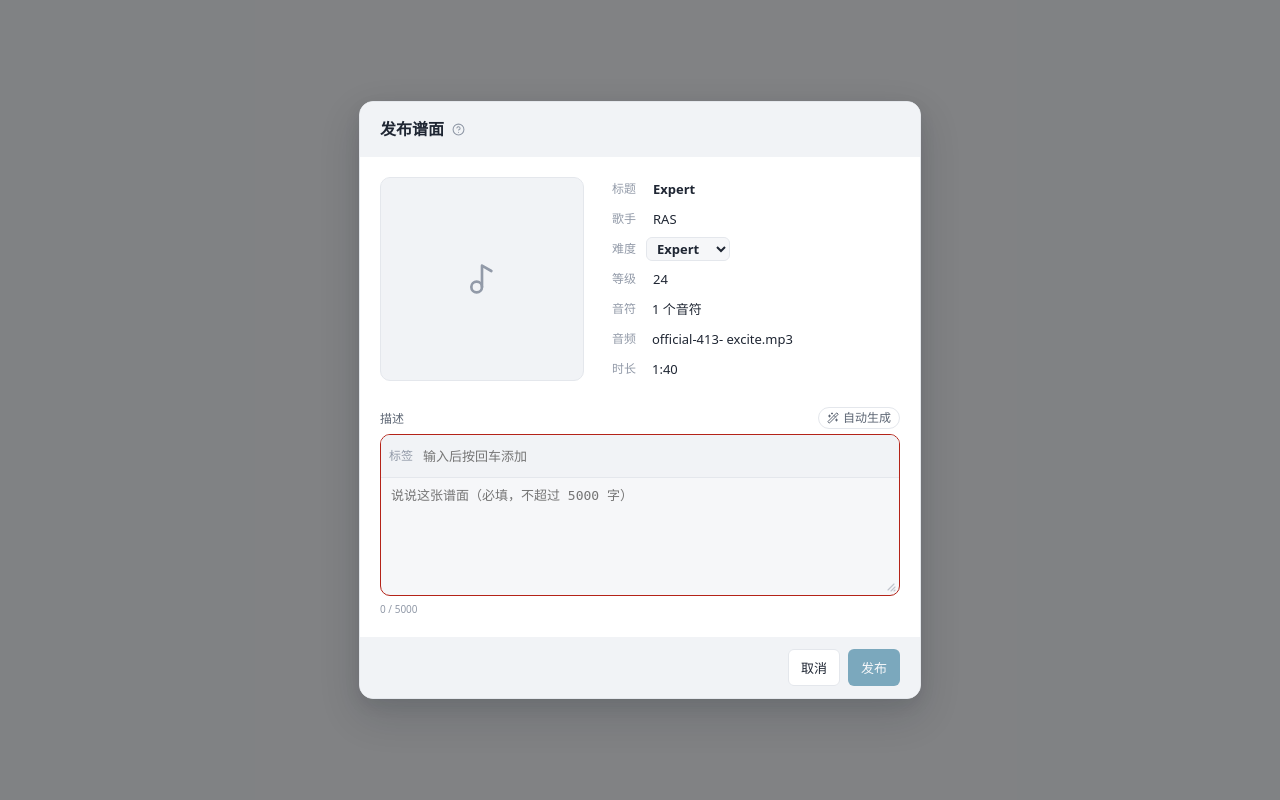
Test: 票 11 · 发布弹窗：必填预检与确认门 › 等级 0：就地缺项，发布键禁用（票 43）
The image size is (1280, 800).
Type "x" into the text box with placeholder "说说这张谱面（必填，不超过 5000 字）" at [640, 536], box [381,478,899,595]
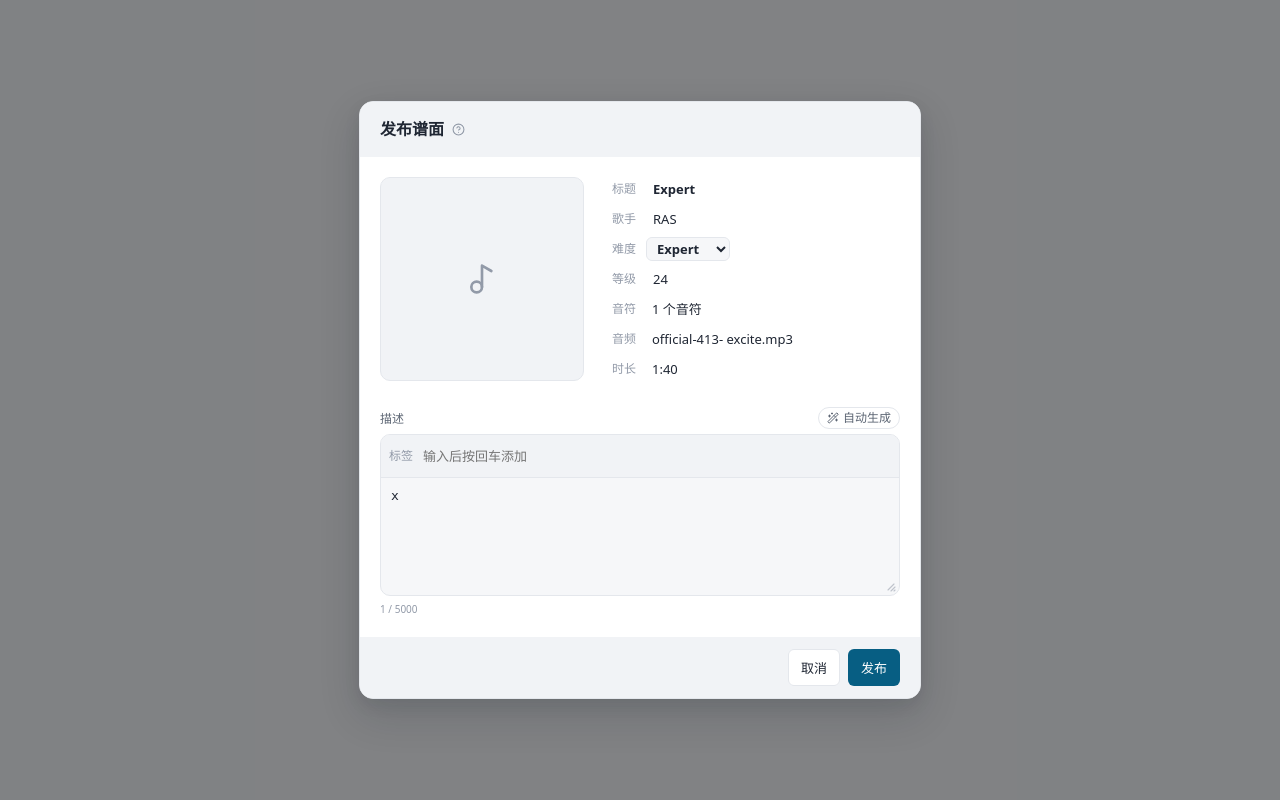
Replace the text in the field named "等级" with "0" at [670, 279], box [646,267,694,291]
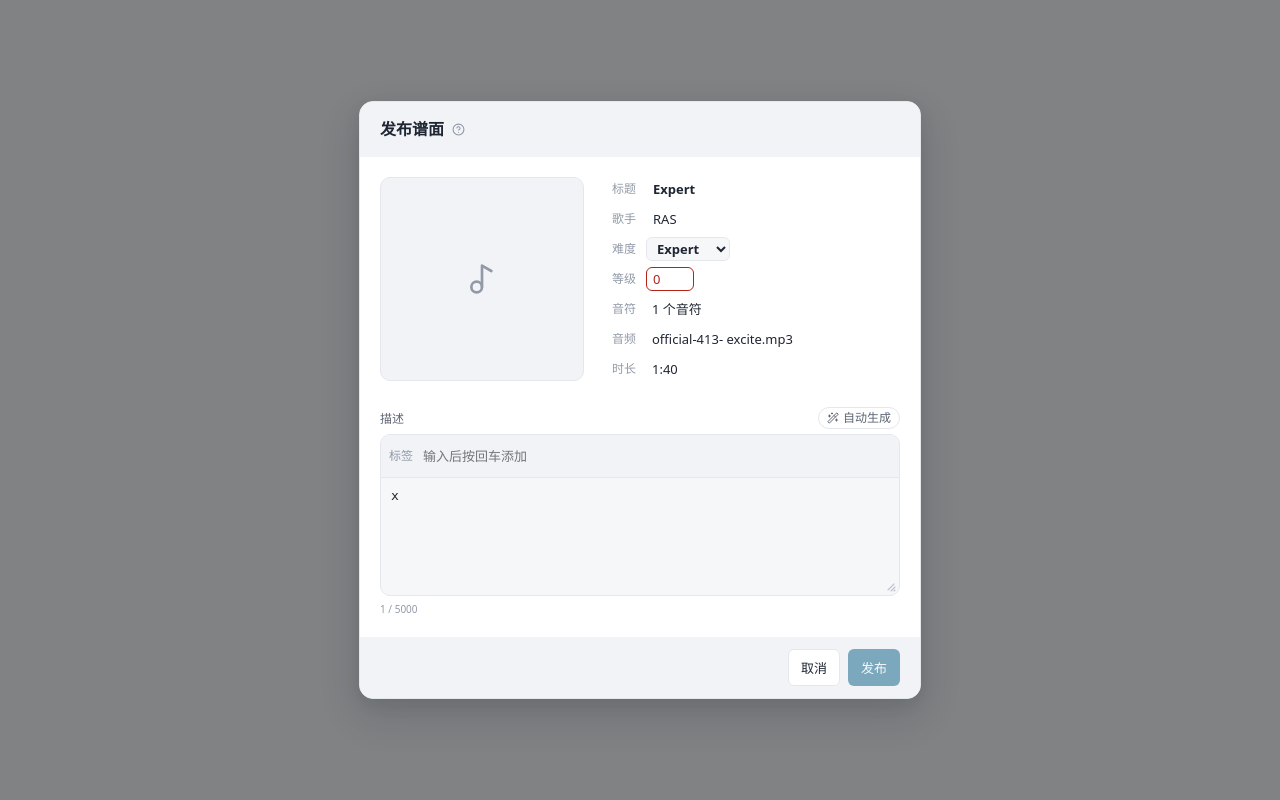
Expected: the button "发布" is disabled, [848,649,900,686]
